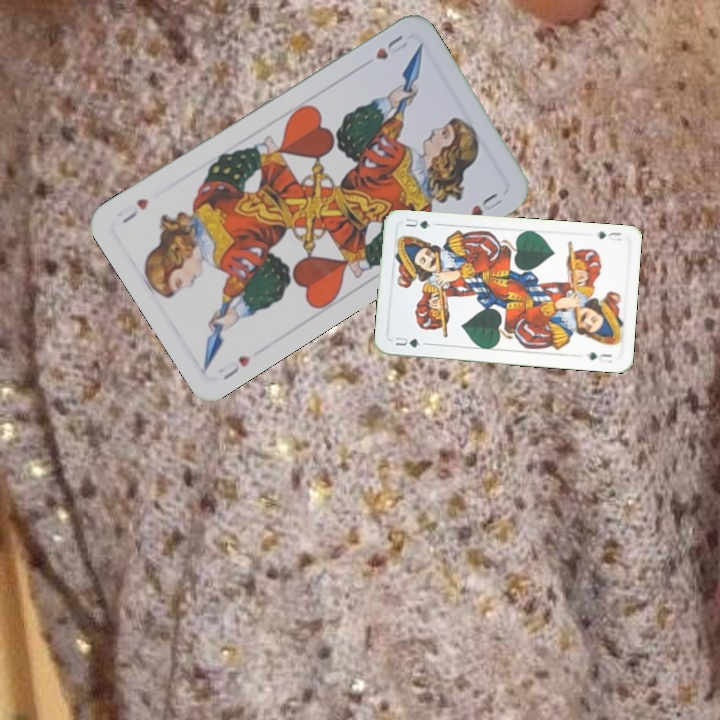GU: (390, 333, 423, 350), (594, 227, 624, 244)
HU: (371, 31, 411, 63), (214, 351, 253, 383)
